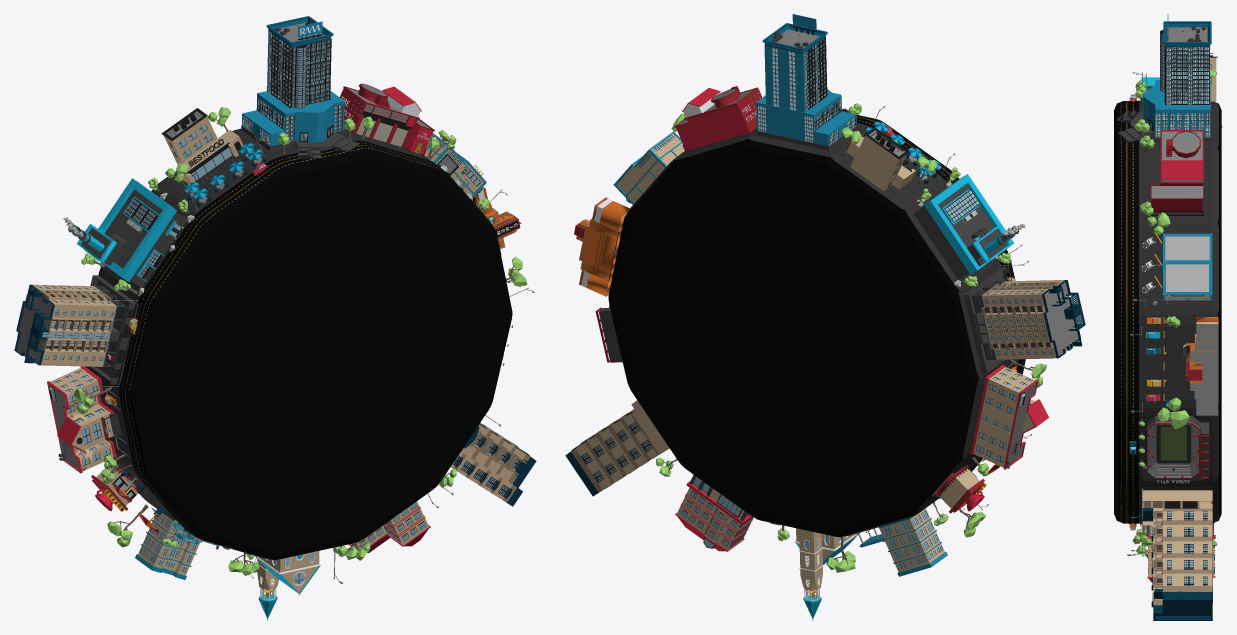
The model's file is rma-city.glb.
The picture shows the model from 3 angles, left to right: view 1: azimuth 30°, elevation 25°; view 2: azimuth 150°, elevation 25°; view 3: azimuth 270°, elevation 25°; orthographic projection. The views are drawn at different scales.
Visible parts, largest first — view 1: Sphere, RMA Building, Apartment Building 1, Factory, Bank, Best Foods, Fire station, Appartment building 2, Hospital, Church, Appartment Building 3, Coffee Shop (+2 smaller); view 2: Sphere, RMA Building, Apartment Building 1, Factory, Bank, Appartment building 2, Fire station, Appartment Building 3, Cinema, Best Foods, Hospital, Church (+3 smaller); view 3: Sphere, Appartment building 2, RMA Building, Fire station, Stadium, Police Station, Cinema, World.031, Appartment Building 3, World.023, Best Foods, Factory (+2 smaller).
Boxes of the visible parts, x1,y1,x2,y2 form: Sphere: [85, 128, 512, 559]; RMA Building: [241, 16, 359, 158]; Apartment Building 1: [14, 275, 138, 385]; Factory: [63, 177, 194, 295]; Bank: [47, 366, 121, 473]; Best Foods: [161, 108, 266, 206]; Fire station: [339, 83, 434, 155]; Appartment building 2: [450, 423, 536, 506]; Hospital: [135, 513, 220, 579]; Church: [254, 550, 320, 620]; Appartment Building 3: [348, 501, 430, 552]; Coffee Shop: [91, 467, 164, 532]; Sphere: [608, 115, 1025, 537]; RMA Building: [756, 14, 856, 150]; Apartment Building 1: [964, 266, 1085, 373]; Factory: [914, 167, 1025, 287]; Bank: [970, 365, 1048, 469]; Appartment building 2: [565, 400, 669, 496]; Fire station: [674, 86, 762, 151]; Appartment Building 3: [675, 474, 753, 551]; Cinema: [574, 197, 629, 296]; Best Foods: [847, 121, 941, 190]; Hospital: [854, 497, 947, 576]; Church: [794, 528, 859, 620]; Sphere: [1114, 101, 1221, 523]; Appartment building 2: [1140, 490, 1212, 620]; RMA Building: [1117, 14, 1211, 142]; Fire station: [1151, 130, 1203, 215]; Stadium: [1143, 416, 1209, 483]; Police Station: [1155, 233, 1212, 303]; Cinema: [1163, 317, 1218, 415]; World.031: [1157, 397, 1189, 429]; Appartment Building 3: [1139, 522, 1215, 582]; World.023: [1147, 212, 1170, 234]; Best Foods: [1138, 53, 1217, 101]; Factory: [1135, 77, 1222, 128].
Bounding box in the file's own units: 5.98 × 6.81 × 1.14.
31 materials, 2 textured.
